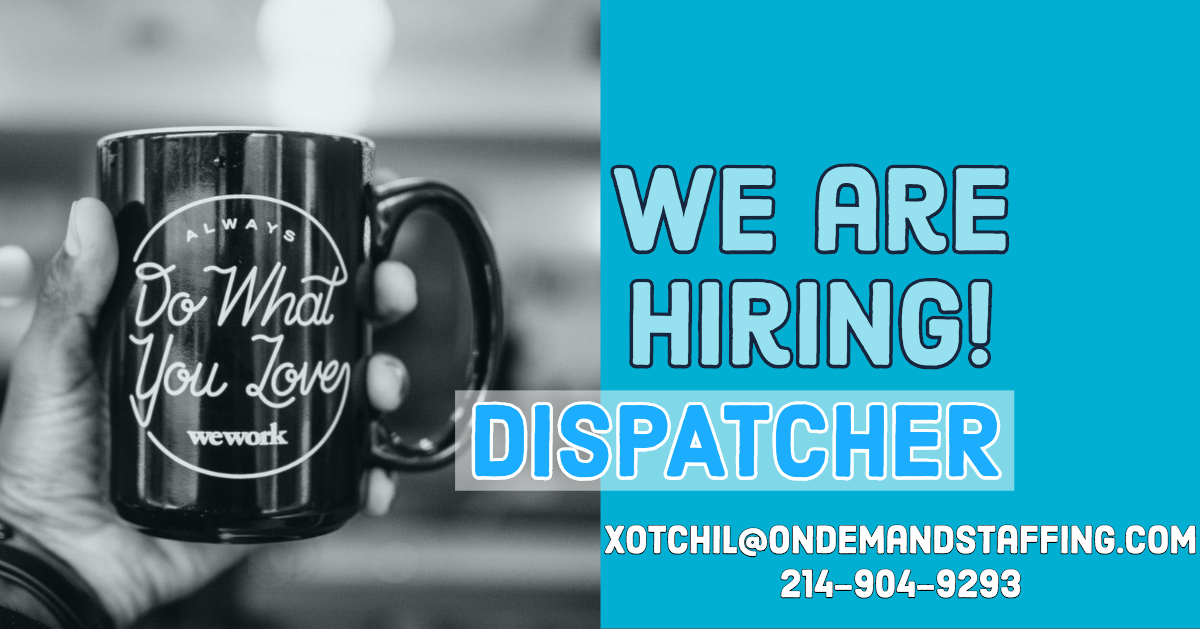wework: (184, 419, 293, 449)
